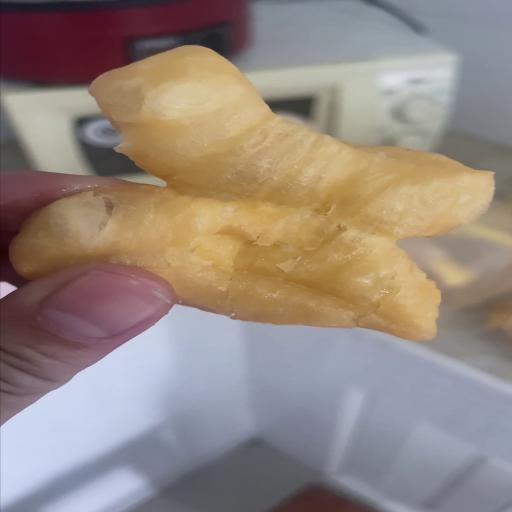street_golden_defect: (9, 46, 494, 341)
